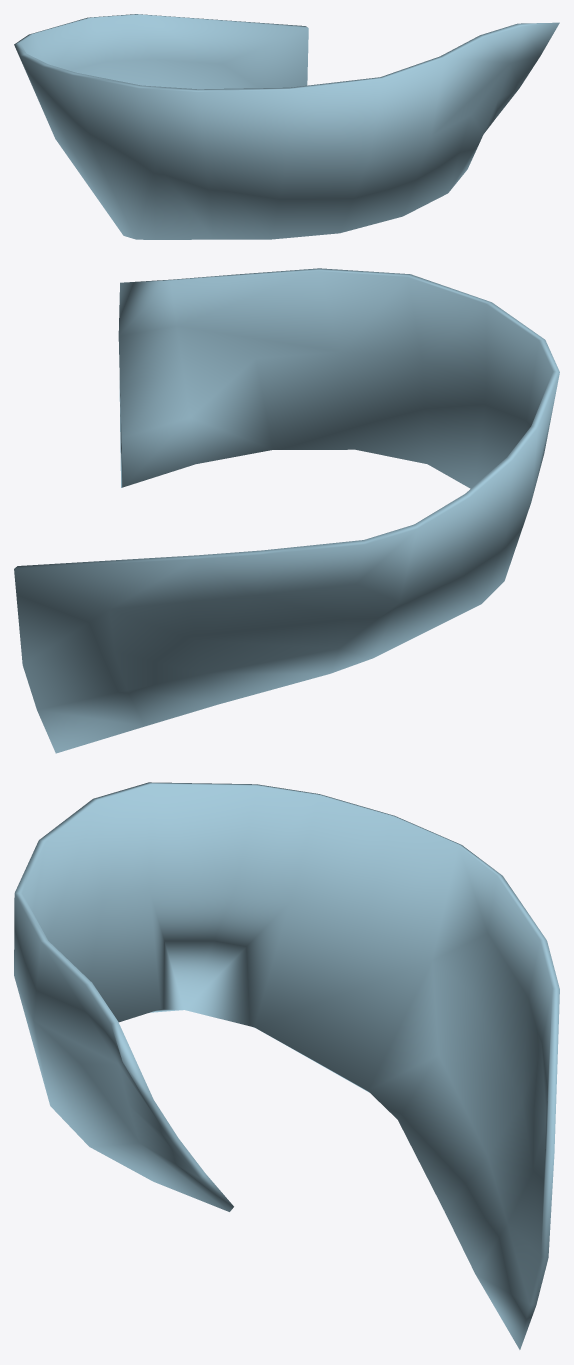
File: articulacoes-annular-ligament-of-radius-r.glb
3 views of the same model, one above another, from view 1: azimuth 30°, elevation 25°; view 2: azimuth 150°, elevation 25°; view 3: azimuth 270°, elevation 25° (orthographic). The views are drawn at different scales.
Visible parts, largest first — view 1: Annular ligament of radius.r; view 2: Annular ligament of radius.r; view 3: Annular ligament of radius.r.
Part boxes in pixels (box(x1,y1,x2,y2)): Annular ligament of radius.r: box(14, 14, 559, 239); Annular ligament of radius.r: box(14, 268, 559, 753); Annular ligament of radius.r: box(14, 782, 559, 1349).
Size of the model in its own units: 0.025 by 0.0173 by 0.0219.
